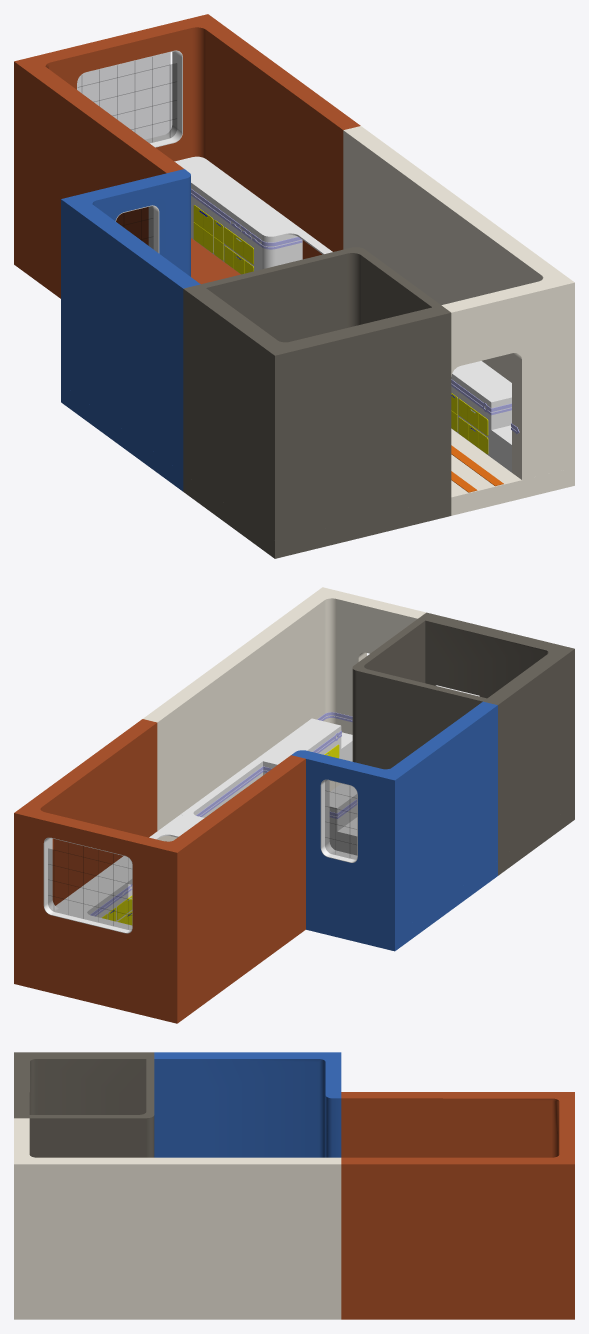
File: vision typeA OptionB.glb
The picture shows the model from 3 angles, top to bottom: view 1: azimuth 30°, elevation 25°; view 2: azimuth 150°, elevation 25°; view 3: azimuth 270°, elevation 25°; orthographic projection. The views are drawn at different scales.
Parts seen in each view (by area): view 1: 厕所墙, 厨房墙, 客厅墙, 卧室墙, 玻璃, 橱柜，木制或者整体性强的材质, 柜门，区别于整体的柜子, 储物柜，木制或者整体性强的材质, 窗框（金属）, 触摸板, 换鞋凳（软）, PATH; view 2: 厨房墙, 卧室墙, 厕所墙, 客厅墙, 玻璃, 储物柜，木制或者整体性强的材质, 窗框（金属）, 橱柜，木制或者整体性强的材质, 沙发15MM 软包边-皮质, 触摸板, 柜门，区别于整体的柜子, 木板; view 3: 客厅墙, 厨房墙, 卧室墙, 厕所墙.
Part boxes in pixels (x1,y1,x2,y2): 厕所墙: (183, 247, 451, 558); 厨房墙: (14, 14, 360, 298); 客厅墙: (343, 126, 574, 515); 卧室墙: (61, 169, 200, 491); 玻璃: (78, 52, 176, 248); 橱柜，木制或者整体性强的材质: (174, 156, 302, 272); 柜门，区别于整体的柜子: (193, 205, 488, 454); 储物柜，木制或者整体性强的材质: (451, 361, 511, 457); 窗框（金属）: (77, 50, 182, 253); 触摸板: (191, 189, 519, 434); 换鞋凳（软）: (491, 425, 511, 472); PATH: (451, 445, 503, 492); 厨房墙: (14, 719, 305, 1023); 卧室墙: (291, 701, 497, 951); 厕所墙: (352, 612, 574, 875); 客厅墙: (143, 587, 425, 841); 玻璃: (48, 780, 356, 929); 储物柜，木制或者整体性强的材质: (256, 718, 357, 850); 窗框（金属）: (43, 779, 357, 933); 橱柜，木制或者整体性强的材质: (56, 856, 132, 925); 沙发15MM 软包边-皮质: (179, 759, 262, 820); 触摸板: (90, 712, 357, 916); 柜门，区别于整体的柜子: (102, 744, 339, 925); 木板: (123, 816, 199, 857); 客厅墙: (14, 1118, 341, 1319); 厨房墙: (341, 1092, 574, 1319); 卧室墙: (154, 1052, 341, 1157); 厕所墙: (14, 1052, 154, 1157).
Bounding box in the file's own units: 5.1 × 3.3 × 10.8.
